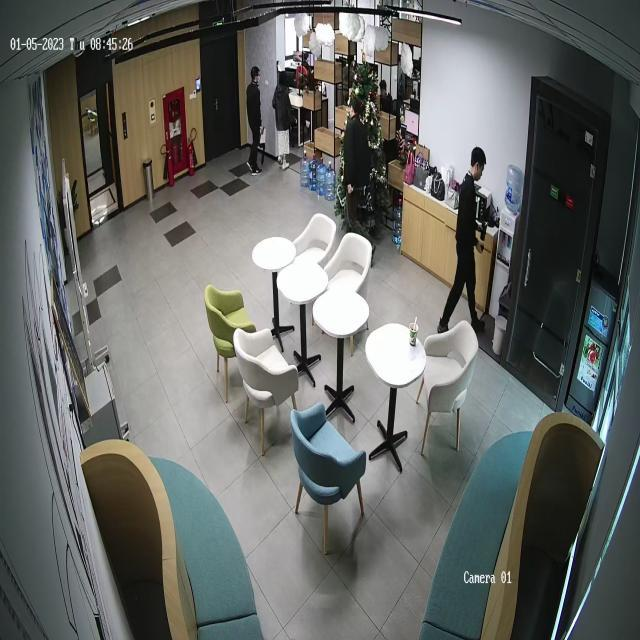person: (437, 147, 489, 333), (342, 94, 372, 236), (272, 69, 294, 170), (246, 66, 265, 175)
